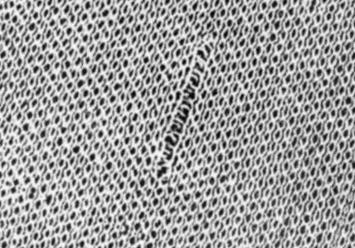slub: (149, 39, 225, 182)
